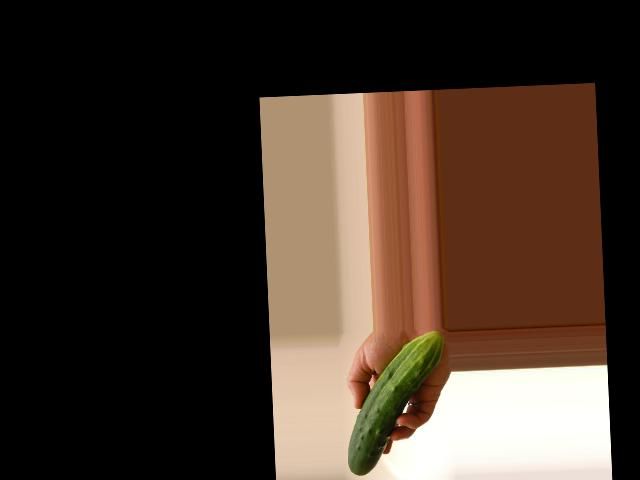cucumber: (343, 331, 449, 476)
